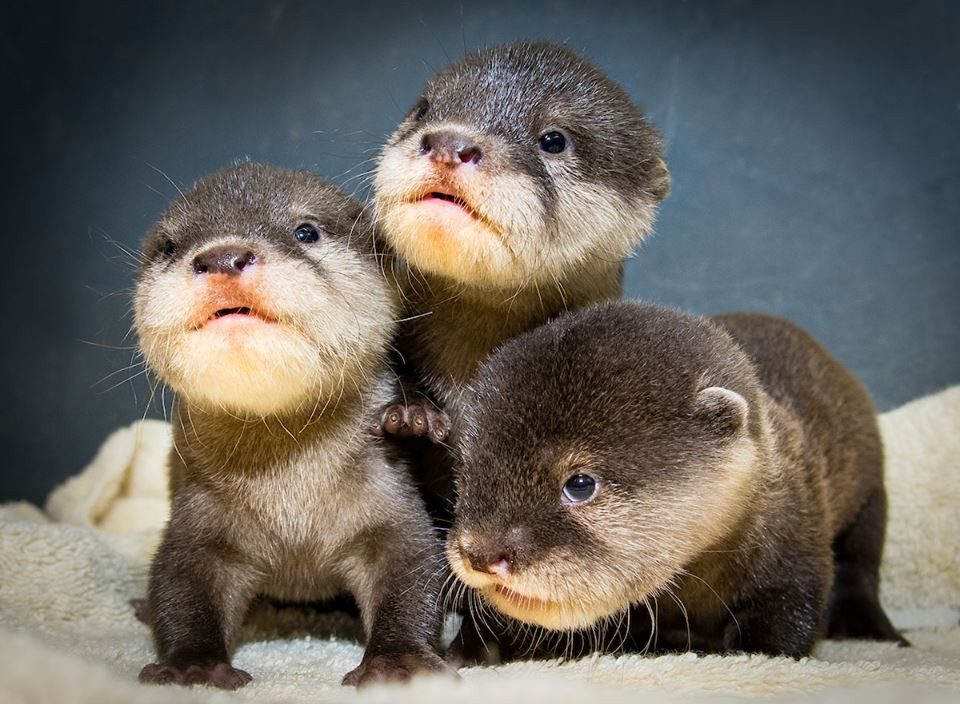otter: (433, 272, 952, 704), (93, 155, 459, 704), (348, 25, 671, 300)
